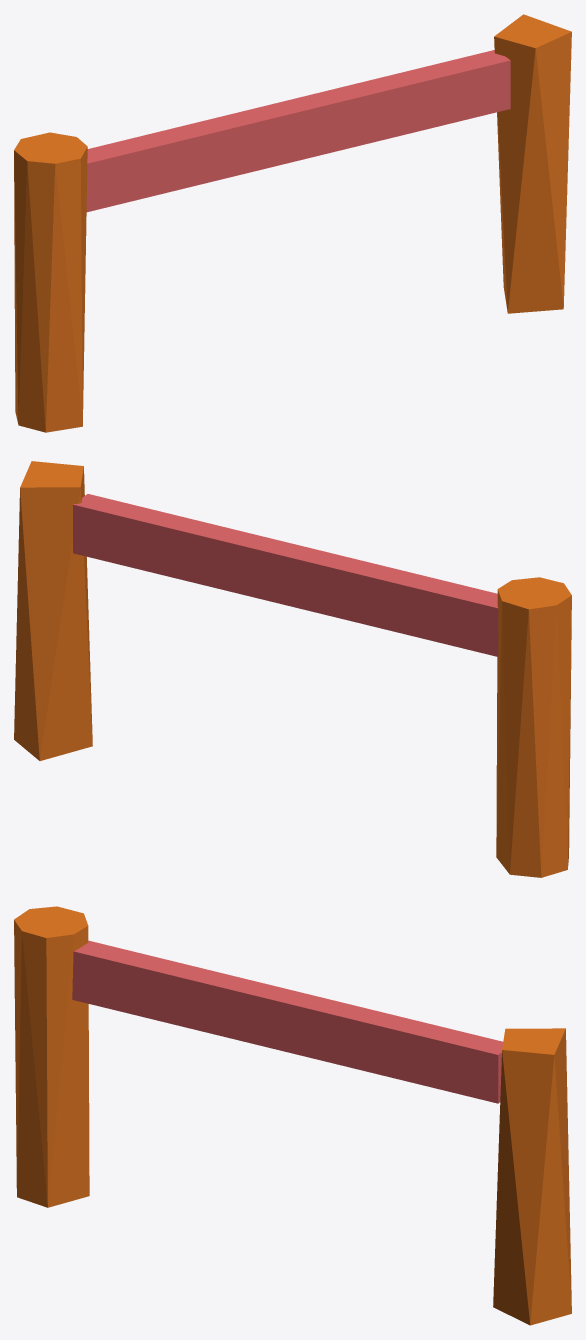
File: compound.gltf
3 renders of one model, top to bottom at view 1: azimuth 30°, elevation 25°; view 2: azimuth 150°, elevation 25°; view 3: azimuth 330°, elevation 25°, orthographic.
Parts seen in each view (by area): view 1: StaticCube, StaticCylinder.000, StaticCylinder.001; view 2: StaticCube, StaticCylinder.000, StaticCylinder.001; view 3: StaticCube, StaticCylinder.001, StaticCylinder.000.
Part boxes in pixels (x1=…): StaticCube: x1=86, y1=50, x2=510, y2=212; StaticCylinder.000: x1=14, y1=132, x2=87, y2=432; StaticCylinder.001: x1=494, y1=14, x2=571, y2=313; StaticCube: x1=73, y1=494, x2=498, y2=656; StaticCylinder.000: x1=496, y1=577, x2=571, y2=877; StaticCylinder.001: x1=14, y1=461, x2=92, y2=760; StaticCube: x1=72, y1=940, x2=503, y2=1103; StaticCylinder.001: x1=493, y1=1028, x2=571, y2=1325; StaticCylinder.000: x1=14, y1=906, x2=89, y2=1207.
Size of what is drawn, in the model's own units: 17.22 by 8.08 by 2.07.
